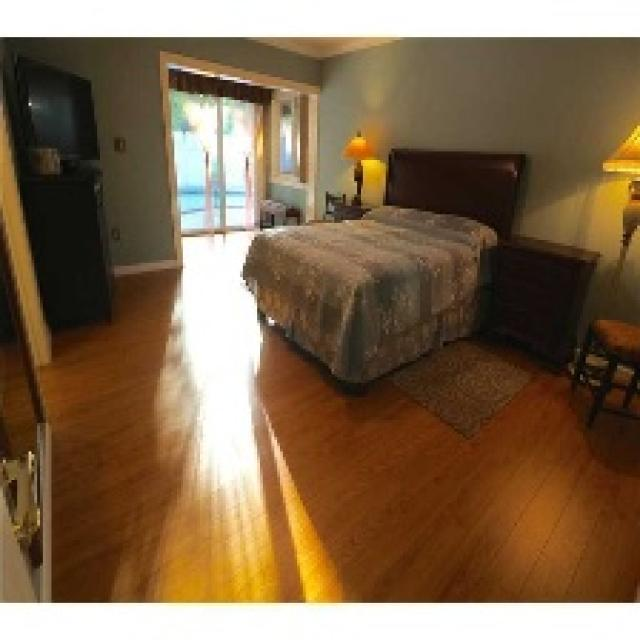Bed: (240, 146, 526, 391)
